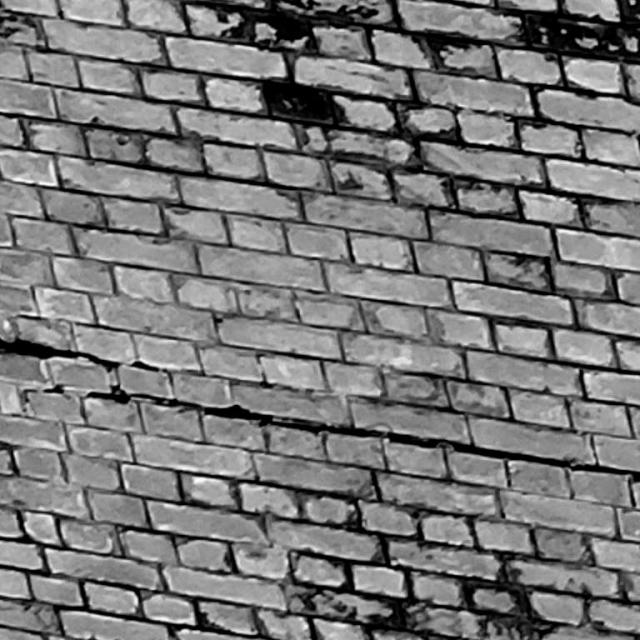crack: (1, 338, 640, 480)
